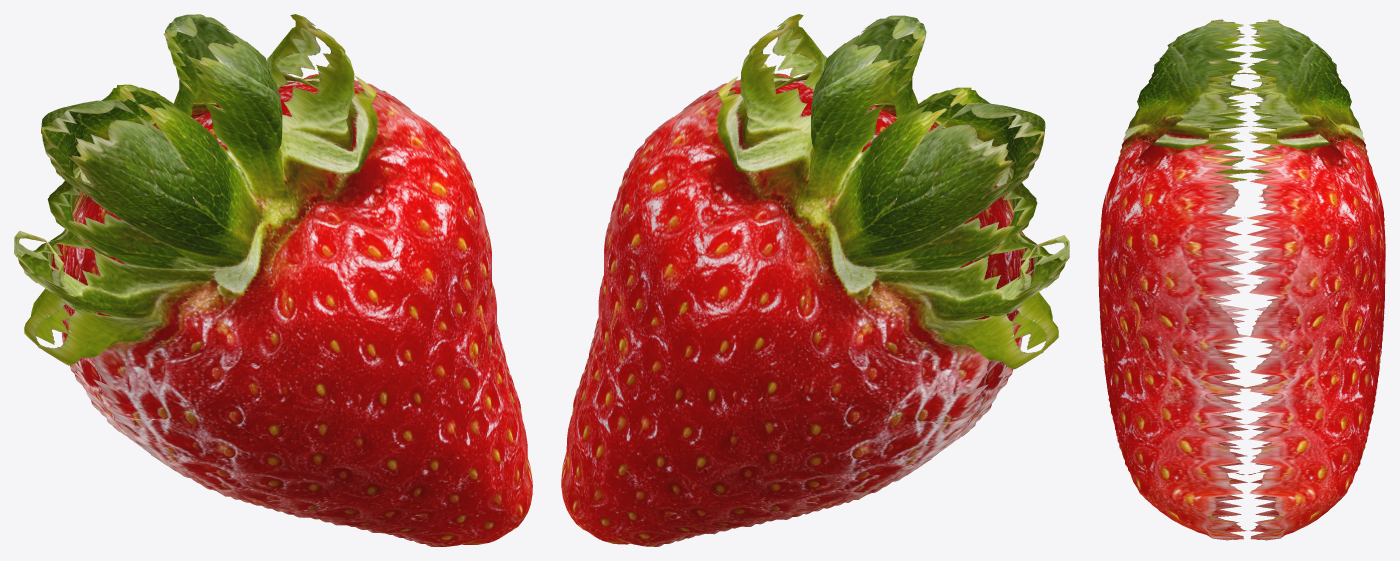
Rendered from fresa.glb.
3 views of the same model, side by side, from view 1: azimuth 30°, elevation 25°; view 2: azimuth 150°, elevation 25°; view 3: azimuth 270°, elevation 25° (orthographic). The views are drawn at different scales.
Visible parts, largest first — view 1: fresa; view 2: fresa; view 3: fresa.
Boxes of the visible parts, x1,y1,x2,y2 form: fresa: [14, 14, 532, 546]; fresa: [561, 14, 1069, 546]; fresa: [1098, 19, 1385, 540].
Bounding box in the file's own units: 1.75 × 1.98 × 1.19.
1 material, 1 textured.
